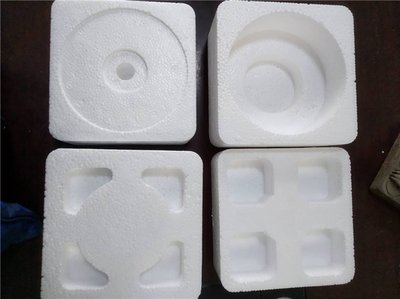5/可回收垃圾/泡沫: (40, 147, 203, 299), (207, 1, 358, 147), (210, 146, 356, 292), (49, 1, 197, 145)
